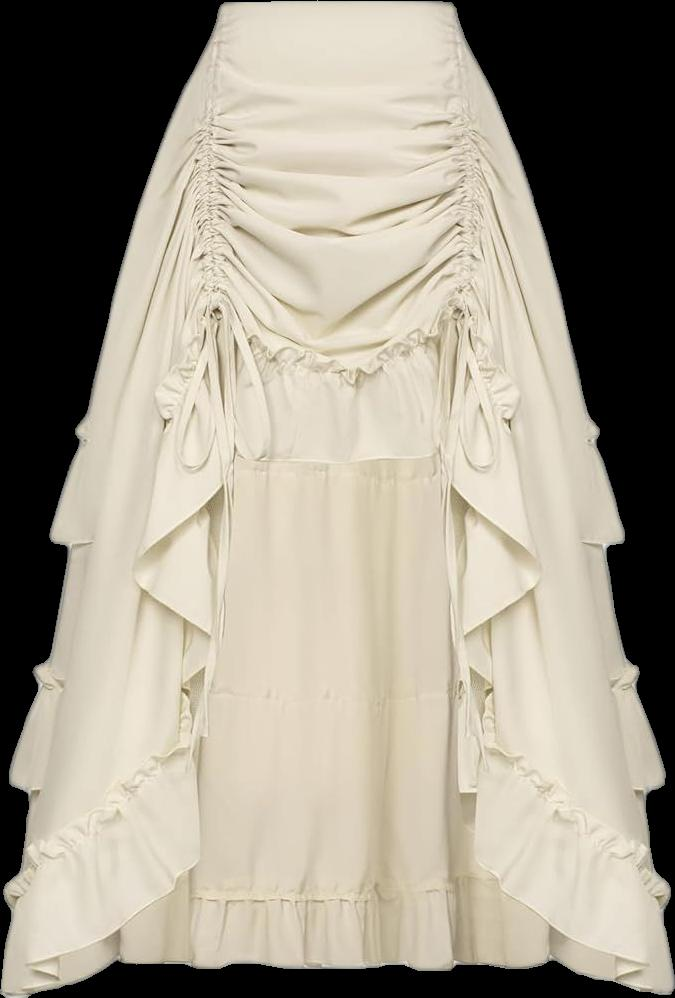Hemline: (0, 295, 674, 990), (0, 948, 670, 997)
Waistline: (218, 0, 460, 14)
